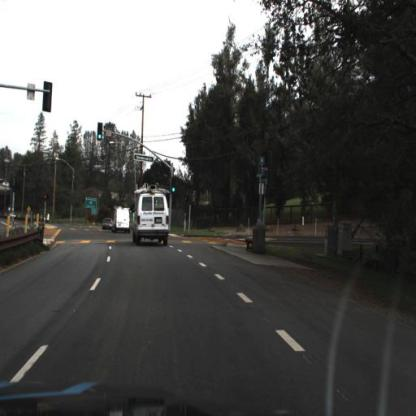car: (131, 190, 175, 244), (112, 207, 131, 238)
trafficLight: (263, 163, 275, 179)
trafficLight-Green: (95, 121, 107, 144), (171, 174, 179, 203), (170, 184, 177, 194)
